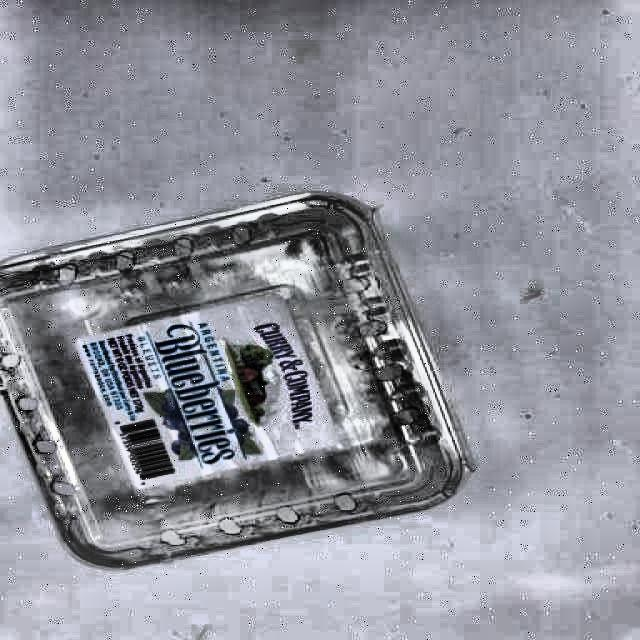plastic: (0, 194, 470, 567)
